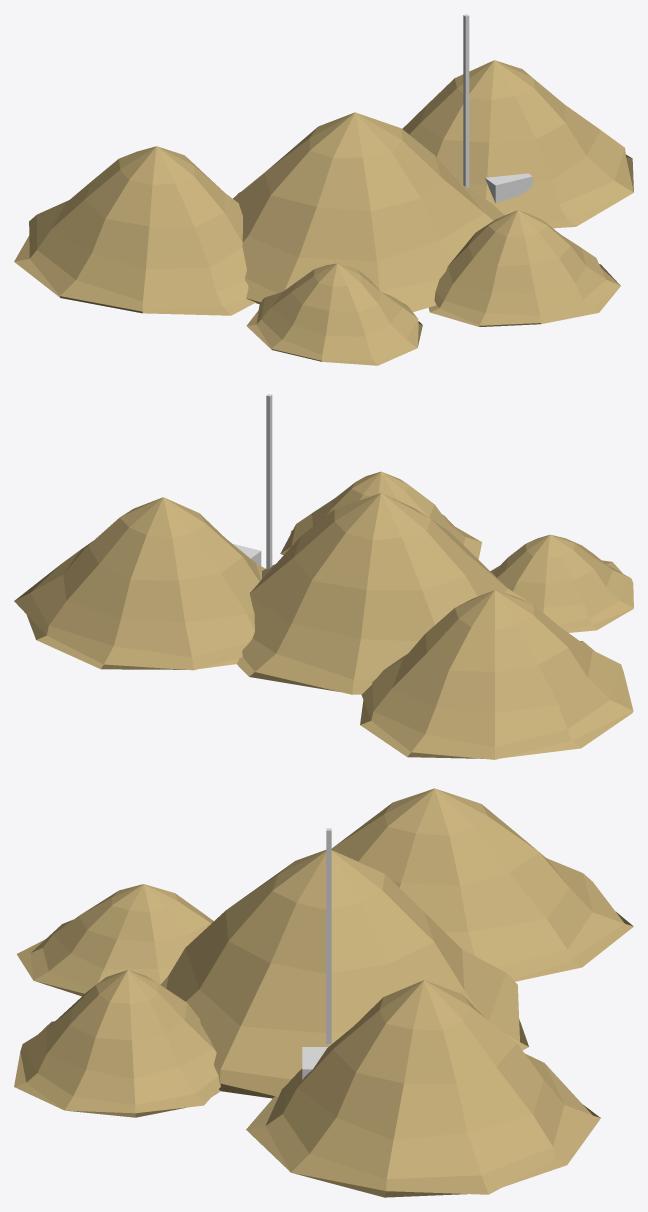
Rendered from SandMounds_LOD0_roblox.fbx.
3 views of the same model, one above another, from view 1: azimuth 30°, elevation 25°; view 2: azimuth 150°, elevation 25°; view 3: azimuth 270°, elevation 25° (orthographic). The views are drawn at different scales.
Visible parts, largest first — view 1: SandMounds_SandMat, 5.3_Stud_Height_Ruler, 1_Stud_Cube; view 2: SandMounds_SandMat, 5.3_Stud_Height_Ruler; view 3: SandMounds_SandMat, 5.3_Stud_Height_Ruler.
Boxes of the visible parts, x1,y1,x2,y2 form: SandMounds_SandMat: [14, 60, 633, 365]; 5.3_Stud_Height_Ruler: [463, 14, 469, 188]; 1_Stud_Cube: [485, 173, 532, 203]; SandMounds_SandMat: [14, 471, 633, 759]; 5.3_Stud_Height_Ruler: [266, 394, 272, 569]; SandMounds_SandMat: [14, 788, 633, 1197]; 5.3_Stud_Height_Ruler: [326, 828, 331, 1044].
Size of the model in its own units: 15.46 by 11.72 by 6.3.
